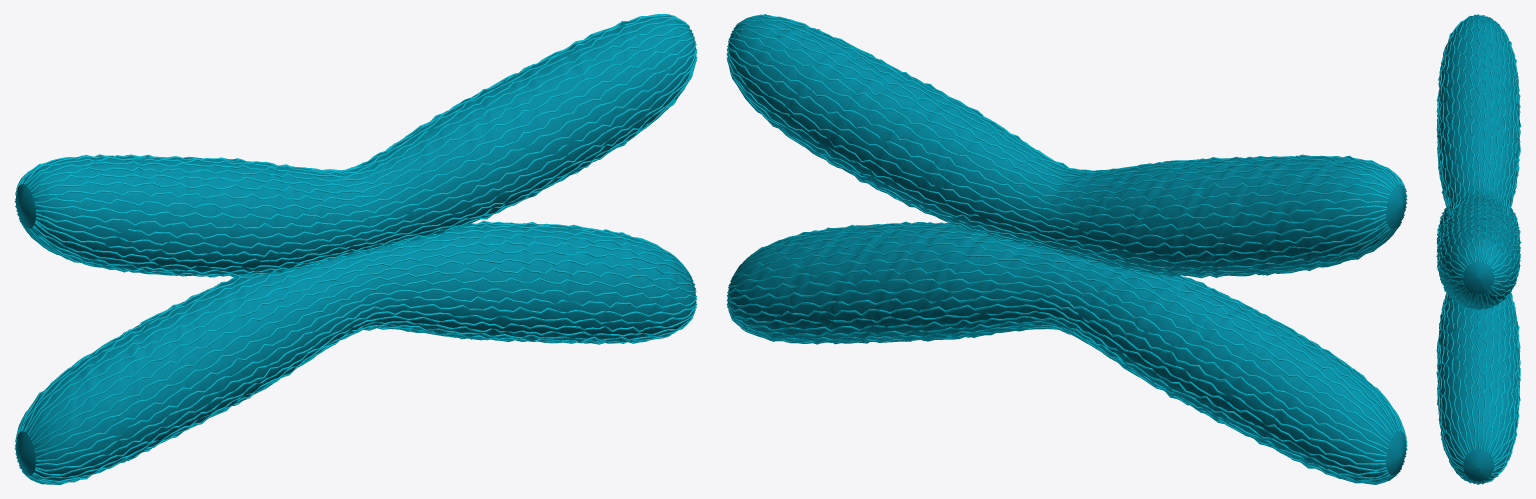
The model's file is mitosis_chromosome.glb.
The picture shows the model from 3 angles, left to right: view 1: azimuth 30°, elevation 25°; view 2: azimuth 150°, elevation 25°; view 3: azimuth 270°, elevation 25°; orthographic projection. The views are drawn at different scales.
Parts seen in each view (by area): view 1: chrom_body_near_1, chrom_body_near_0, chrom_folds_0, chrom_folds_1, chrom_body_far_1, chrom_body_far_0; view 2: chrom_body_near_1, chrom_body_near_0, chrom_folds_0, chrom_folds_1, chrom_body_far_1, chrom_body_far_0; view 3: chrom_body_near_1, chrom_folds_1, chrom_body_near_0, chrom_folds_0, chrom_body_far_1, chrom_body_far_0.
Part boxes in pixels (left/top/right/bottom): chrom_body_near_1: left=15, top=15, right=696, bottom=276; chrom_body_near_0: left=15, top=222, right=696, bottom=483; chrom_folds_0: left=14, top=220, right=697, bottom=484; chrom_folds_1: left=14, top=14, right=697, bottom=277; chrom_body_far_1: left=19, top=19, right=684, bottom=274; chrom_body_far_0: left=19, top=223, right=691, bottom=477; chrom_body_near_1: left=728, top=15, right=1406, bottom=276; chrom_body_near_0: left=727, top=223, right=1406, bottom=483; chrom_folds_0: left=726, top=221, right=1407, bottom=484; chrom_folds_1: left=726, top=14, right=1407, bottom=278; chrom_body_far_1: left=732, top=16, right=1401, bottom=275; chrom_body_far_0: left=732, top=222, right=1401, bottom=481; chrom_body_near_1: left=1437, top=15, right=1520, bottom=309; chrom_folds_1: left=1436, top=14, right=1521, bottom=310; chrom_body_near_0: left=1437, top=208, right=1520, bottom=483; chrom_folds_0: left=1436, top=208, right=1521, bottom=484; chrom_body_far_1: left=1437, top=16, right=1519, bottom=308; chrom_body_far_0: left=1437, top=208, right=1519, bottom=482.
Bounding box in the file's own units: 2100 × 952 × 305.
